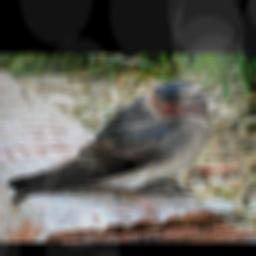Swallow: (3, 78, 221, 206)
